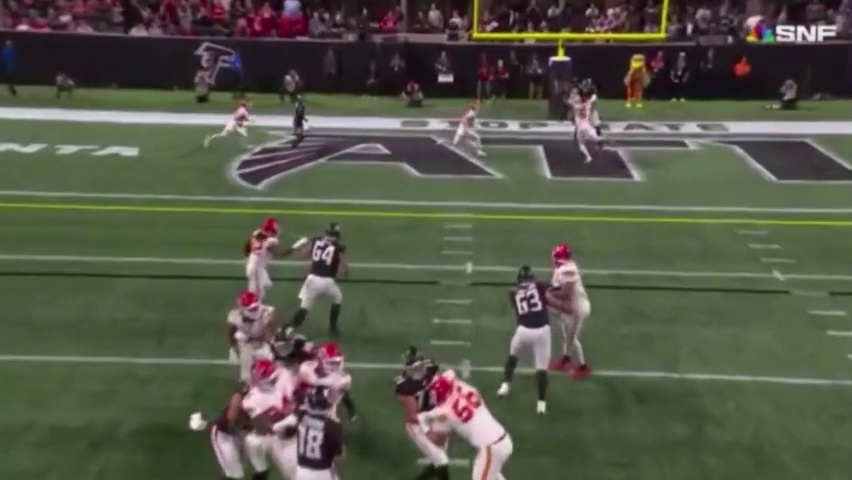interference: (570, 79, 606, 143)
